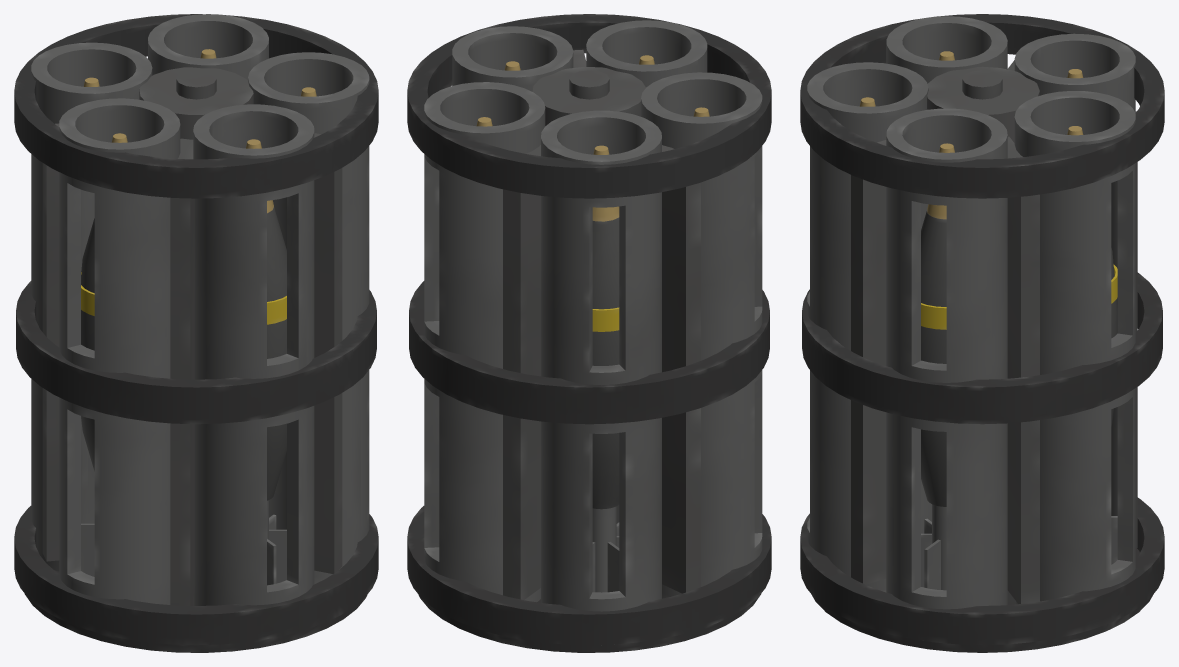
The model's file is Mortar50_Cell.fbx.
3 views of the same model, side by side, from view 1: azimuth 30°, elevation 25°; view 2: azimuth 150°, elevation 25°; view 3: azimuth 270°, elevation 25° (orthographic).
Visible parts, largest first — view 1: Mortar50_Cell_LOD0; view 2: Mortar50_Cell_LOD0; view 3: Mortar50_Cell_LOD0.
Boxes of the visible parts, x1=… form: Mortar50_Cell_LOD0: x1=14, y1=14, x2=378, y2=652; Mortar50_Cell_LOD0: x1=407, y1=14, x2=771, y2=652; Mortar50_Cell_LOD0: x1=800, y1=14, x2=1164, y2=652.
Size of what is drawn, in the model's own units: 21.6 by 32.8 by 21.6.
